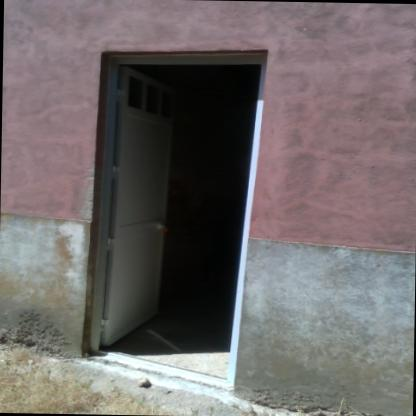open: (75, 34, 281, 383)
